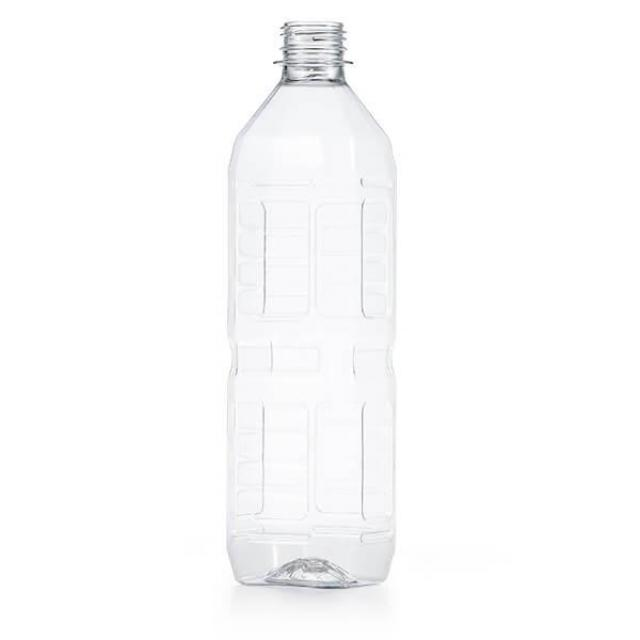bottle: (206, 11, 419, 597)
